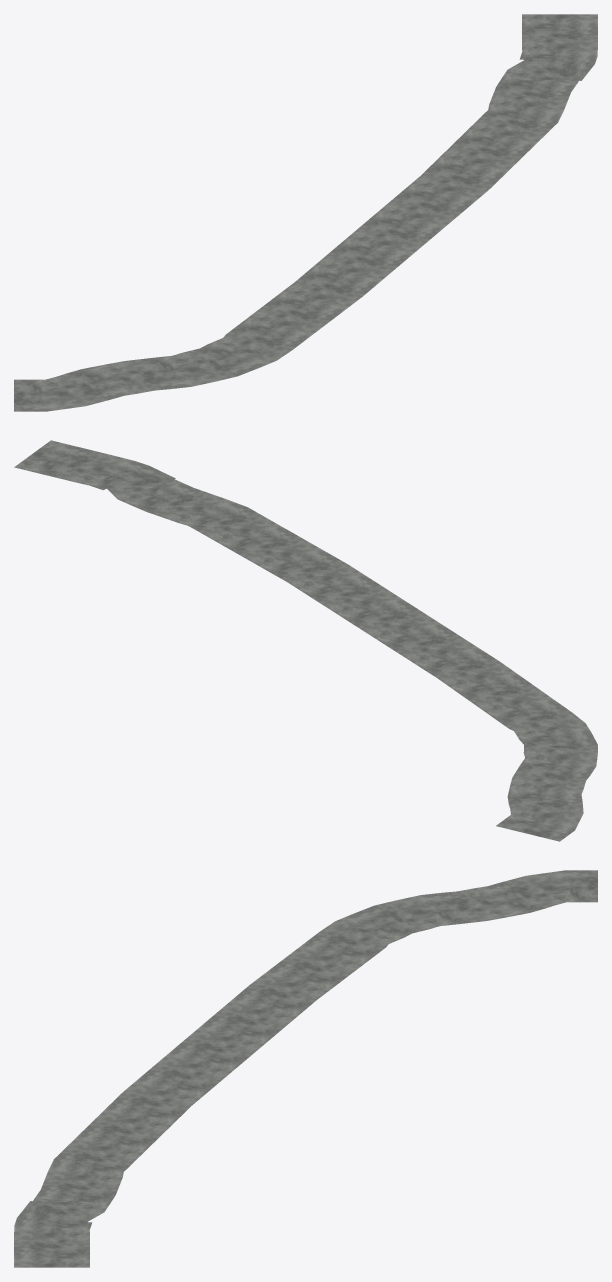
The model's file is RD-ROAD-020.obj.
3 views of the same model, one above another, from view 1: azimuth 90°, elevation 25°; view 2: azimuth 150°, elevation 25°; view 3: azimuth 270°, elevation 25° (orthographic). The views are drawn at different scales.
Parts seen in each view (by area): view 1: RD-ROAD-020; view 2: RD-ROAD-020; view 3: RD-ROAD-020.
Part boxes in pixels (x1=…): RD-ROAD-020: x1=14, y1=14, x2=597, y2=411; RD-ROAD-020: x1=14, y1=440, x2=597, y2=841; RD-ROAD-020: x1=14, y1=870, x2=597, y2=1267.
Bounding box in the file's own units: 52.52 × 0 × 32.59.
Materials: 1 (1 with a texture image).
